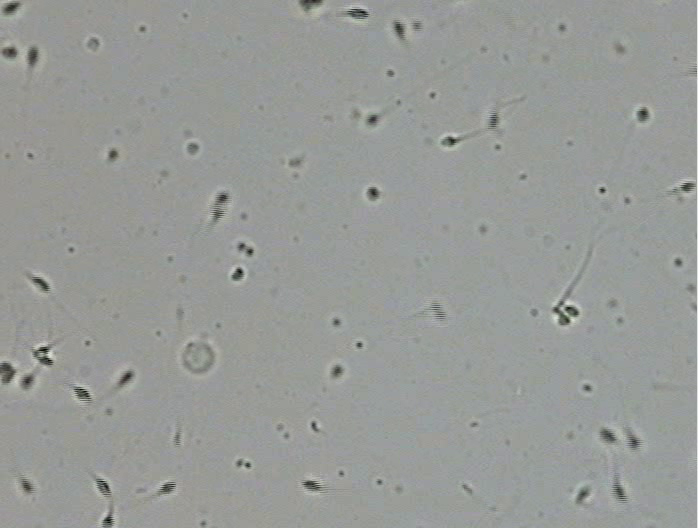Impurity: (181, 341, 215, 375), (86, 36, 99, 50)
S: (32, 346, 54, 366), (611, 479, 628, 503), (1, 360, 16, 385), (74, 385, 93, 404), (31, 275, 50, 293), (430, 302, 447, 321), (96, 478, 112, 498), (117, 370, 134, 388), (300, 479, 323, 492), (347, 8, 370, 20), (626, 434, 642, 451), (158, 481, 176, 496), (599, 428, 617, 443), (2, 1, 21, 15), (392, 19, 406, 38), (19, 478, 35, 494), (574, 486, 589, 503), (298, 1, 323, 11), (26, 46, 38, 66), (20, 374, 35, 390), (635, 106, 650, 122), (214, 190, 230, 205), (210, 206, 226, 221), (488, 111, 499, 130), (1, 47, 18, 59), (231, 267, 245, 281), (101, 514, 115, 528), (679, 181, 696, 192), (564, 305, 579, 317), (366, 187, 379, 200), (331, 365, 343, 379), (441, 136, 456, 147), (107, 149, 119, 161), (366, 114, 378, 126), (557, 314, 570, 325), (188, 142, 199, 154)
